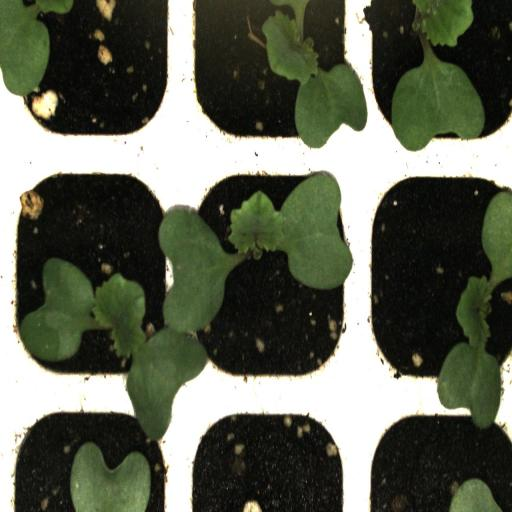seedling: (178, 156, 364, 402), (0, 152, 178, 398), (361, 157, 512, 398), (180, 0, 359, 156), (358, 0, 512, 157)
